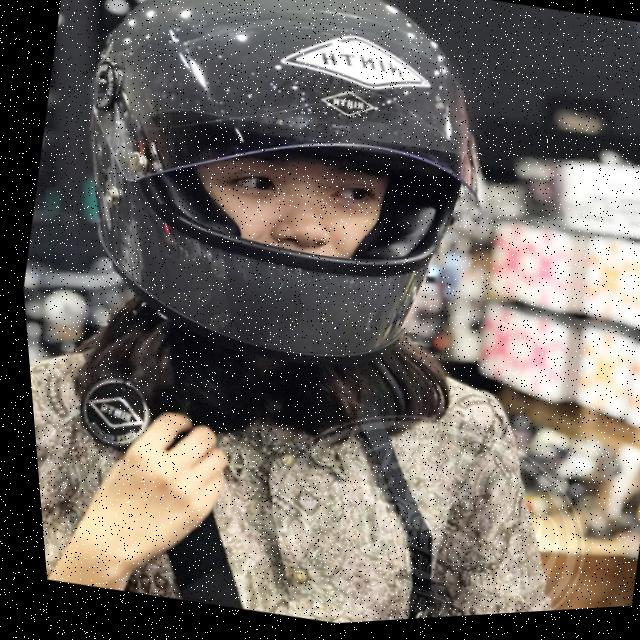helmet: (22, 0, 549, 425)
